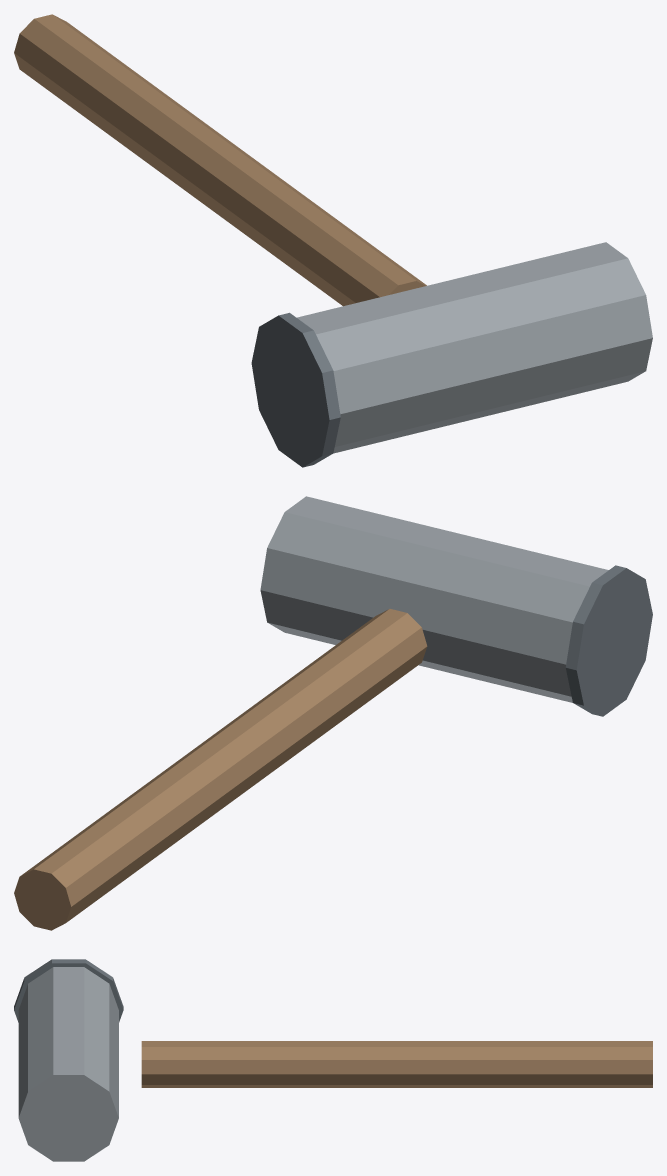
The model's file is hammer.glb.
3 views of the same model, one above another, from view 1: azimuth 30°, elevation 25°; view 2: azimuth 150°, elevation 25°; view 3: azimuth 270°, elevation 25° (orthographic). The views are drawn at different scales.
Visible parts, largest first — view 1: 01_head, 00_handle, 02_face; view 2: 01_head, 00_handle, 02_face; view 3: 00_handle, 01_head, 02_face.
Part boxes in pixels (x1,y1,x2,y2): 01_head: (297, 242, 652, 453); 00_handle: (14, 14, 426, 306); 02_face: (251, 312, 340, 467); 01_head: (260, 496, 608, 702); 00_handle: (14, 609, 427, 930); 02_face: (565, 565, 652, 716); 00_handle: (141, 1041, 652, 1087); 01_head: (18, 967, 118, 1161); 02_face: (14, 959, 123, 1022).
Size of the model in its own units: 0.29 by 0.1141 by 0.7.
